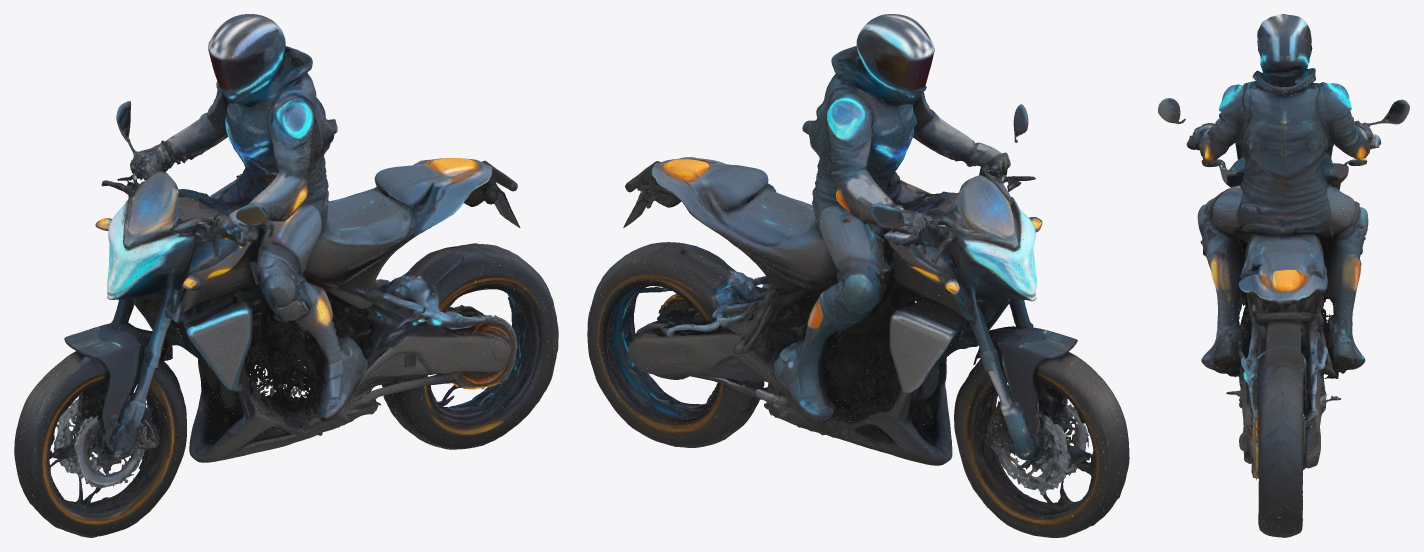
File: sci_fi_bike.glb
3 views of the same model, side by side, from view 1: azimuth 30°, elevation 25°; view 2: azimuth 150°, elevation 25°; view 3: azimuth 270°, elevation 25° (orthographic). The views are drawn at different scales.
Visible parts, largest first — view 1: temp; view 2: temp; view 3: temp.
Boxes of the visible parts, box(x1,y1,x2,y2) form: temp: box(14, 14, 558, 537); temp: box(587, 14, 1129, 537); temp: box(1158, 14, 1409, 537).
Size of the model in its own units: 2 by 1.72 by 0.9359.
1 material, 1 textured.
